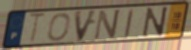I: (123, 8, 136, 39)
N: (92, 8, 122, 42), (141, 6, 170, 39)
O: (46, 12, 72, 42)
T: (27, 12, 48, 45)
V: (73, 8, 99, 43)
